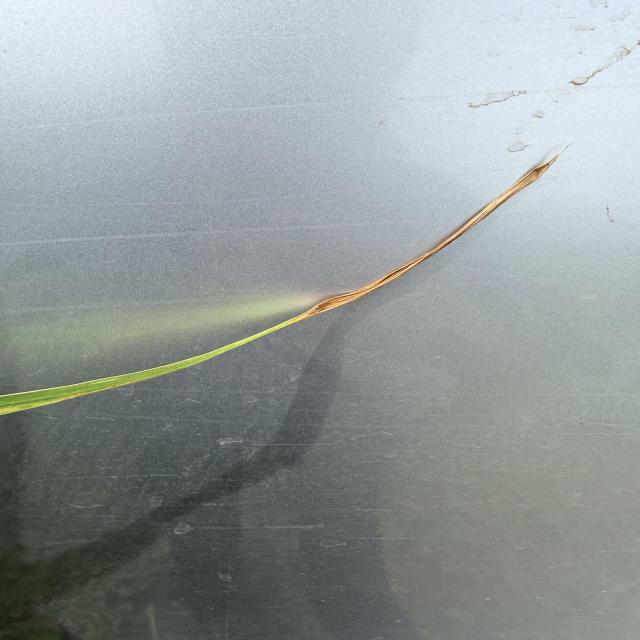Chay bia la: (303, 144, 574, 319)
